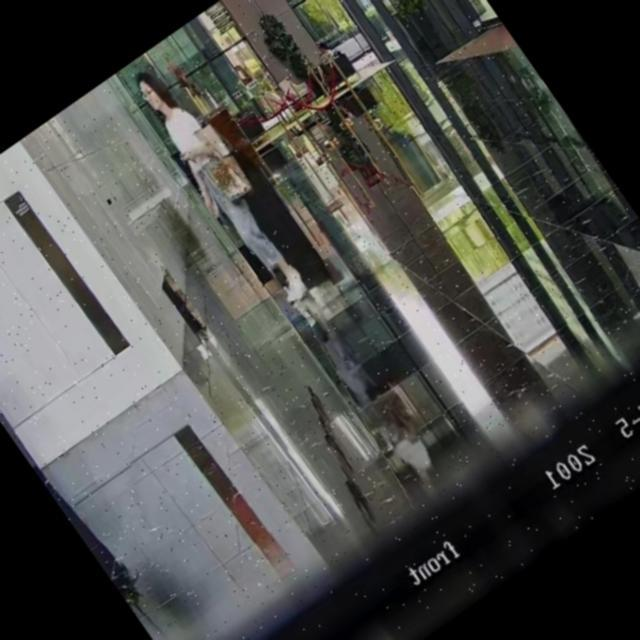person: (120, 57, 319, 316), (313, 38, 335, 62)
